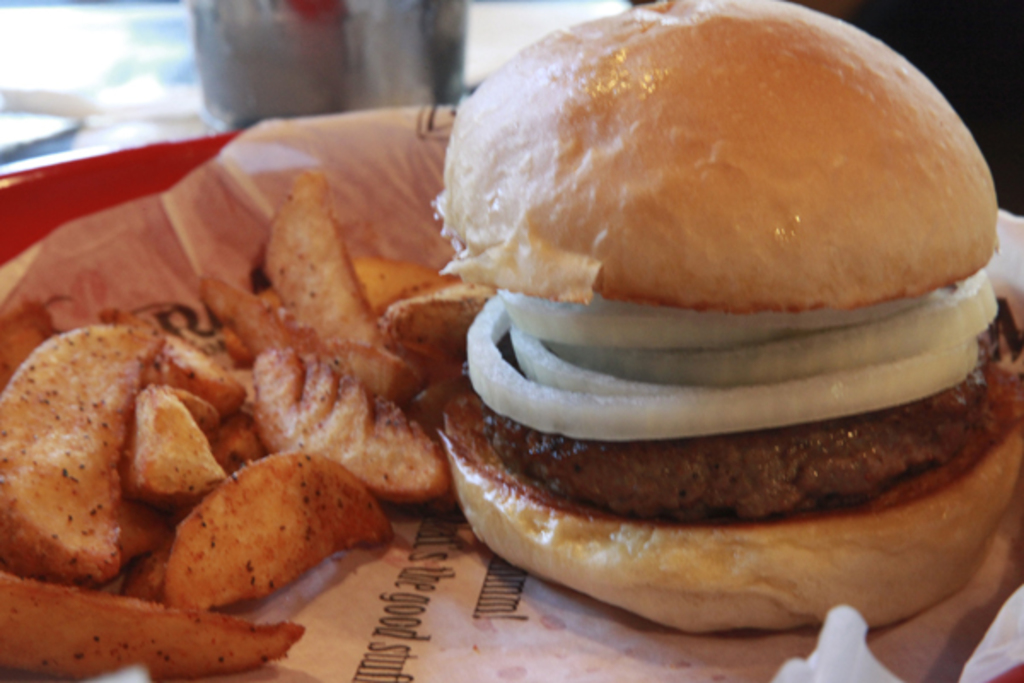Hamburger: (436, 0, 1022, 630)
